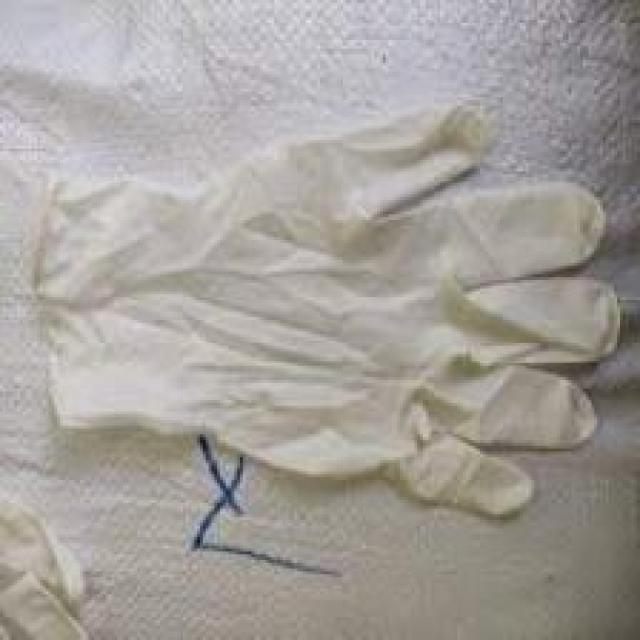Glove: (12, 117, 640, 524)
